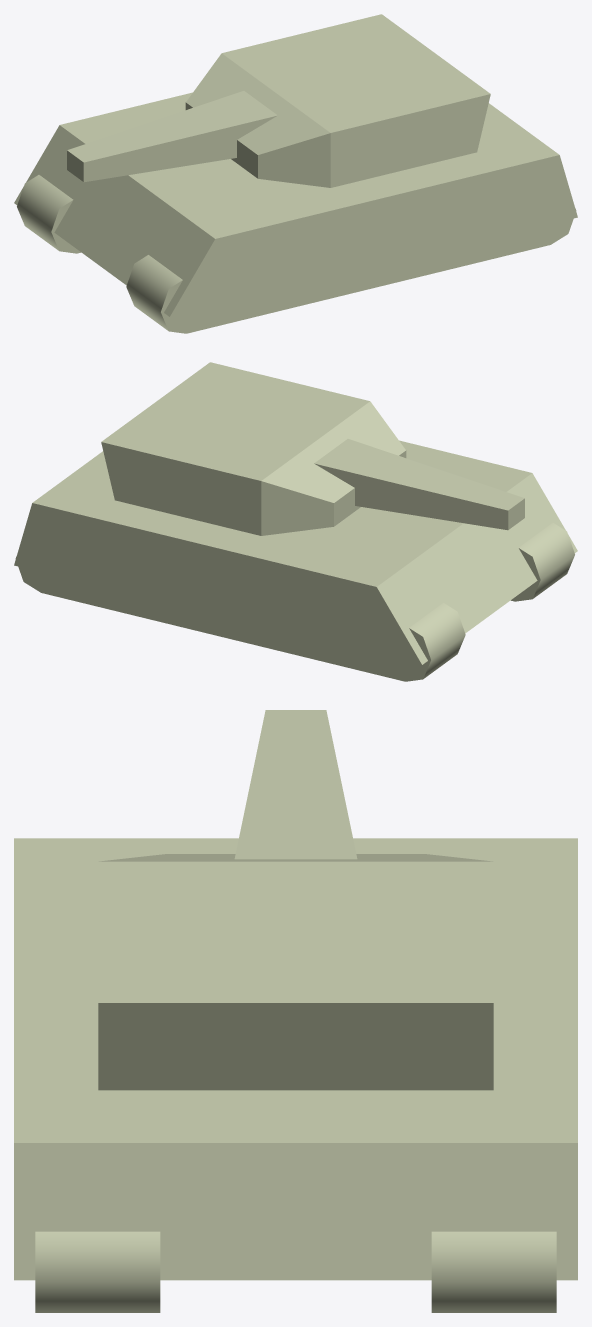
Rendered from Tank.obj.
3 views of the same model, one above another, from view 1: azimuth 30°, elevation 25°; view 2: azimuth 150°, elevation 25°; view 3: azimuth 270°, elevation 25° (orthographic). The views are drawn at different scales.
Parts seen in each view (by area): view 1: Tank_B, TankTower_B; view 2: Tank_B, TankTower_B; view 3: Tank_B, TankTower_B.
Part boxes in pixels (left/top/right/bottom): Tank_B: left=14, top=92, right=577, bottom=333; TankTower_B: left=67, top=14, right=490, bottom=187; Tank_B: left=14, top=440, right=577, bottom=681; TankTower_B: left=101, top=362, right=524, bottom=535; Tank_B: left=14, top=838, right=577, bottom=1312; TankTower_B: left=98, top=710, right=493, bottom=1090.
Bounding box in the file's own units: 125 × 41.42 × 78.74.
